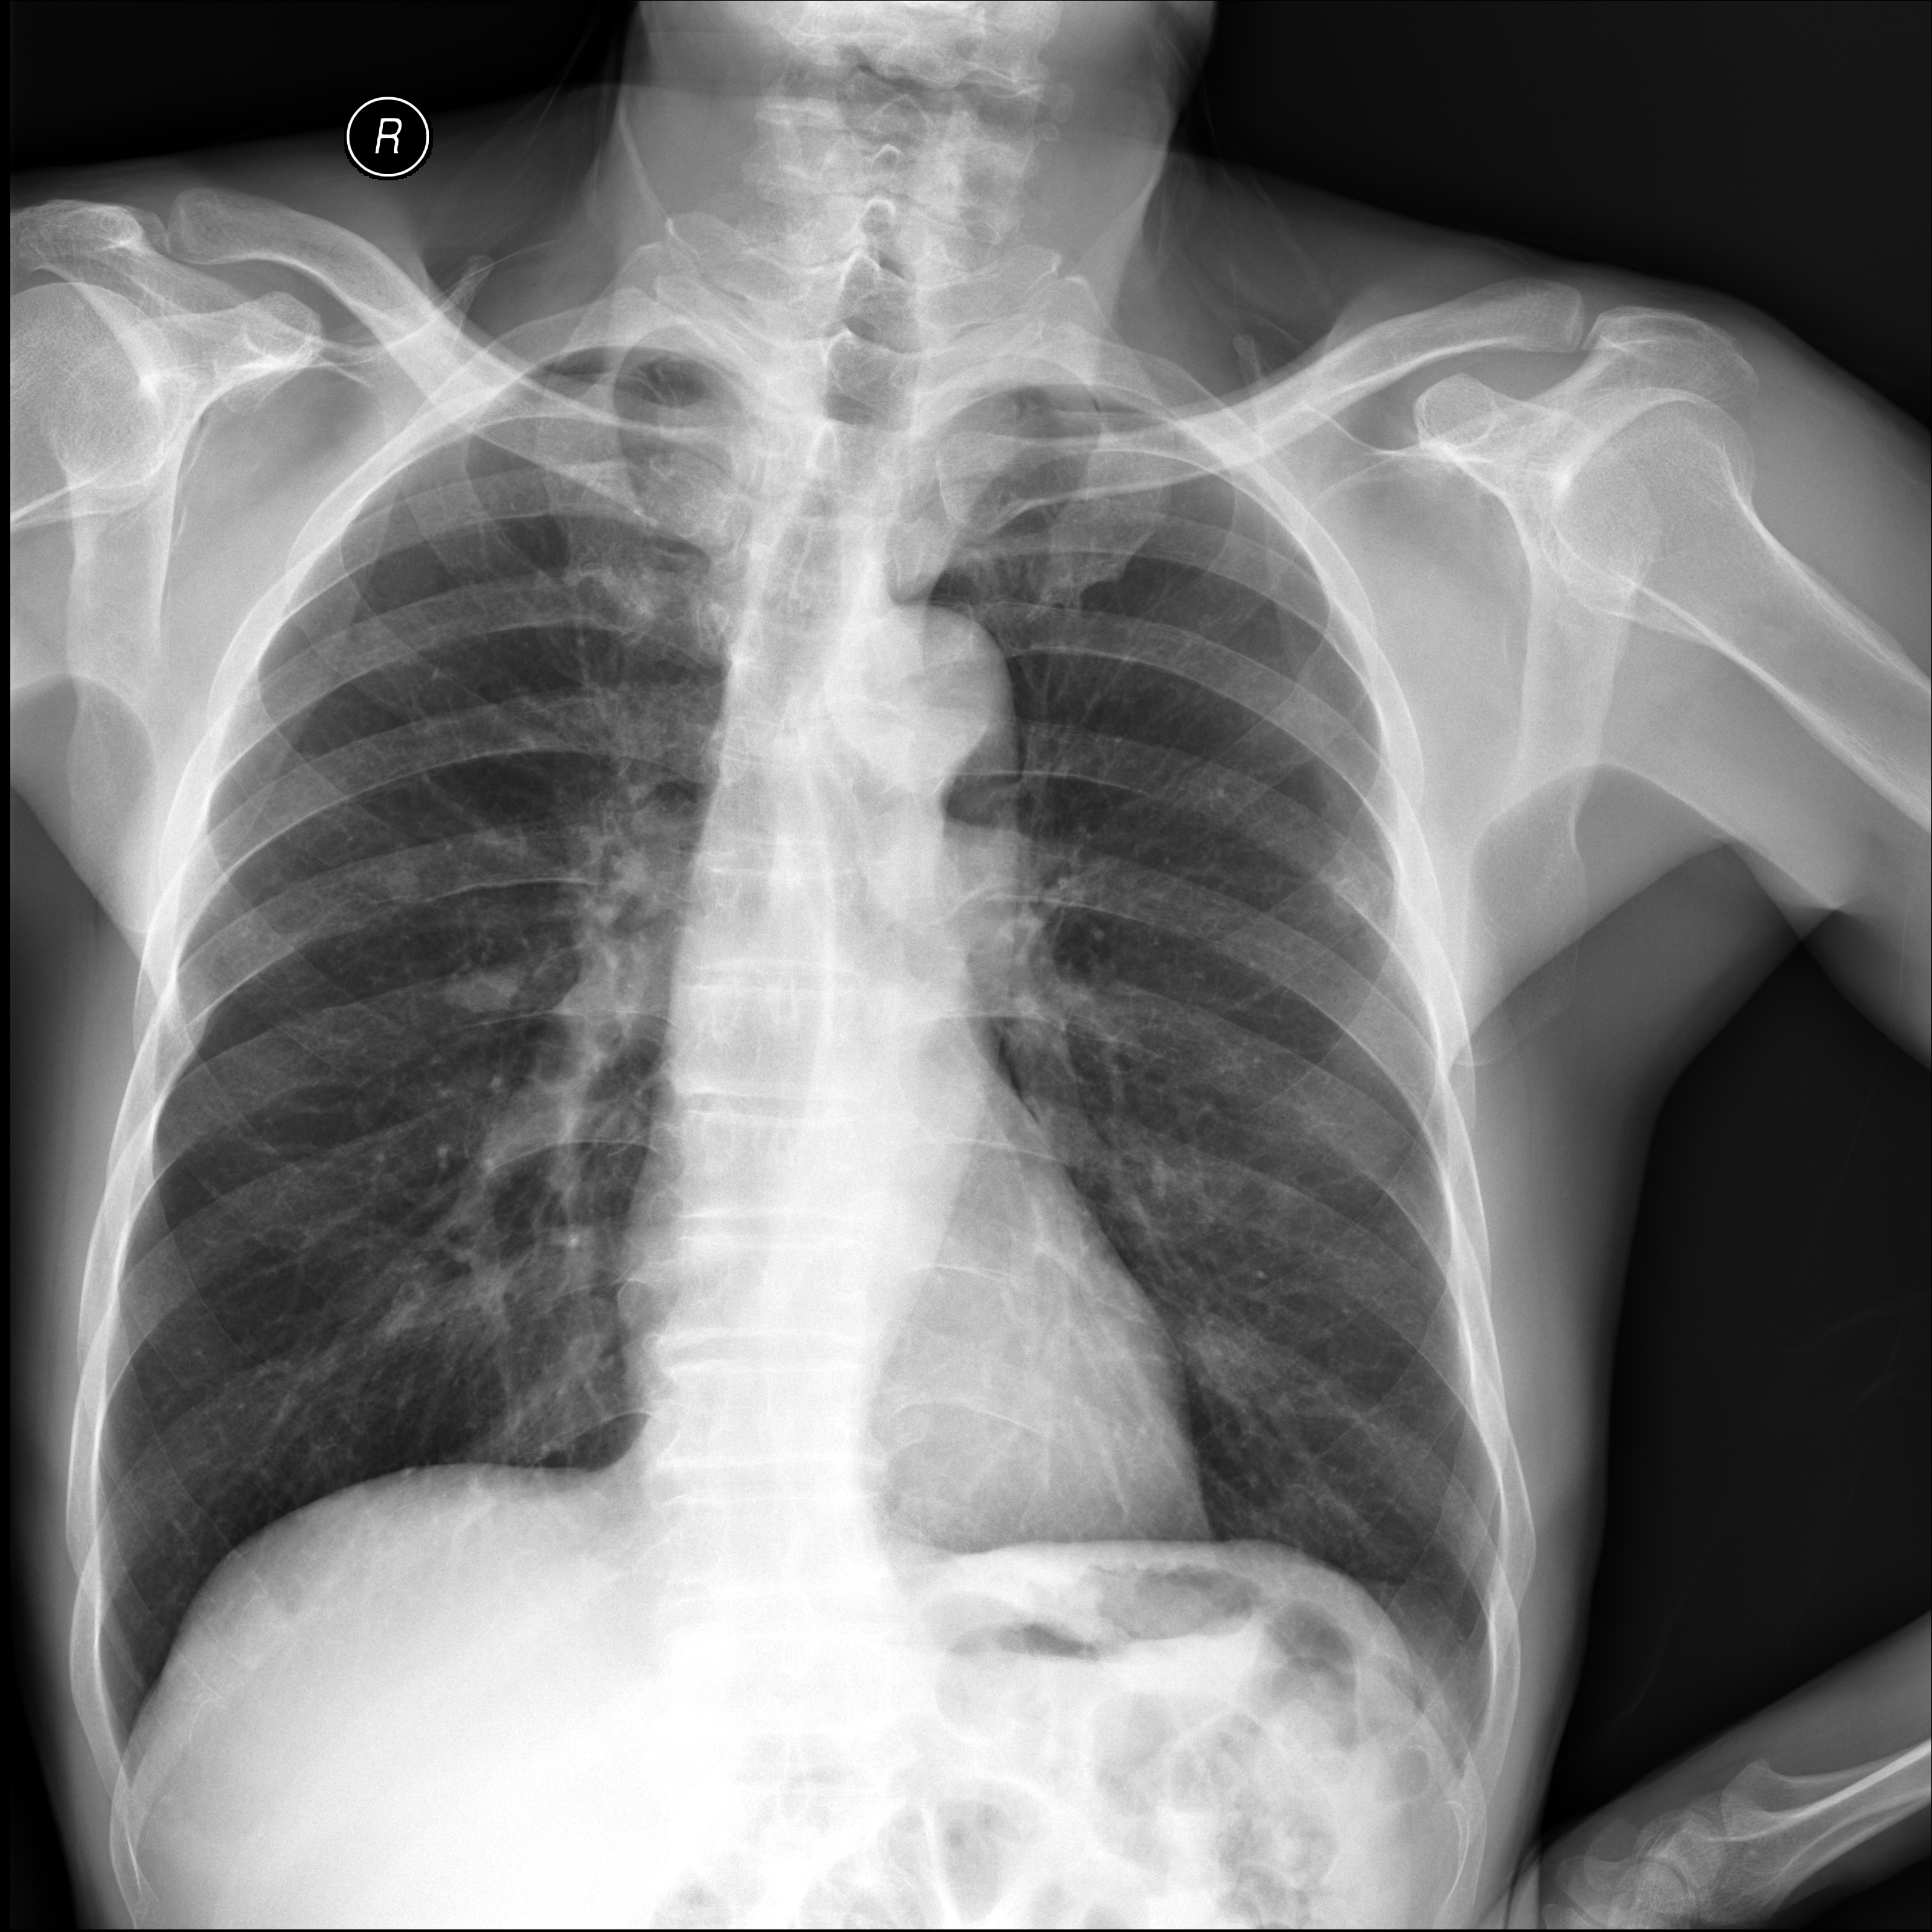nodule: (414, 929, 563, 1069)
